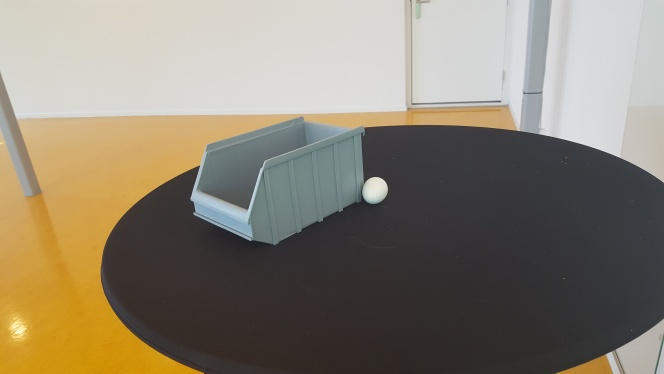egg: (363, 174, 388, 206)
tray_right: (250, 124, 363, 244)
